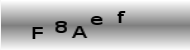8: (54, 20, 67, 34)
A: (71, 25, 87, 39)
F: (31, 26, 44, 40)
e: (90, 15, 104, 26)
f: (116, 10, 126, 24)
